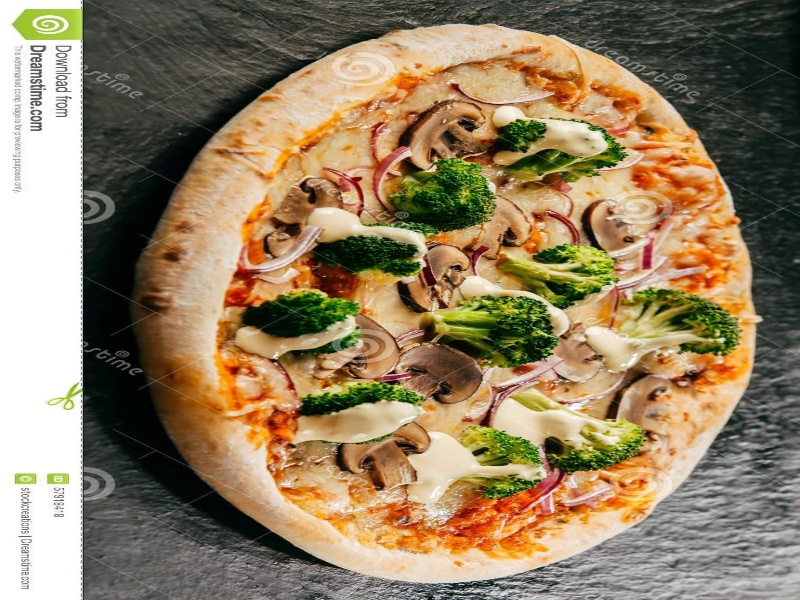champignon: (402, 96, 488, 174), (342, 420, 432, 493), (390, 344, 488, 409), (582, 197, 640, 257), (481, 199, 536, 261)
